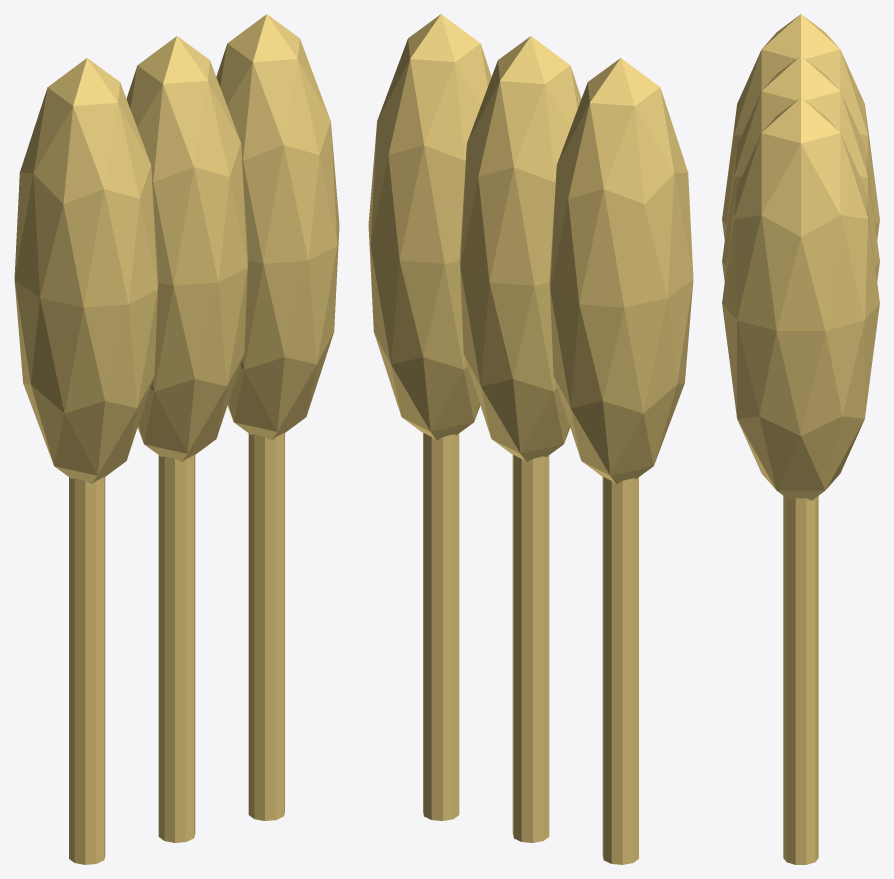
The model's file is harvest_wheat.glb.
3 views of the same model, side by side, from view 1: azimuth 30°, elevation 25°; view 2: azimuth 150°, elevation 25°; view 3: azimuth 270°, elevation 25° (orthographic). The views are drawn at different scales.
Visible parts, largest first — view 1: harvest_wheat; view 2: harvest_wheat; view 3: harvest_wheat.
Part boxes in pixels (x1,y1,x2,y2): harvest_wheat: (14, 14, 339, 864); harvest_wheat: (368, 14, 693, 864); harvest_wheat: (722, 14, 879, 864).
Size of the model in its own units: 0.3331 by 0.85 by 0.16.
